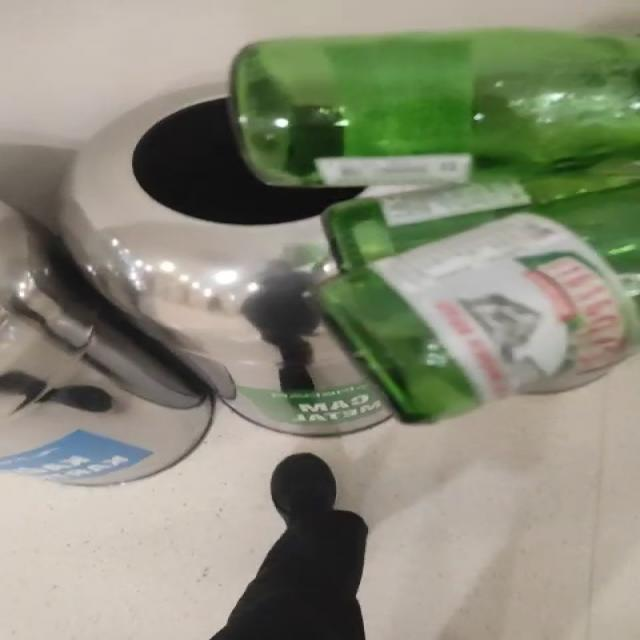glass: (231, 28, 637, 423)
